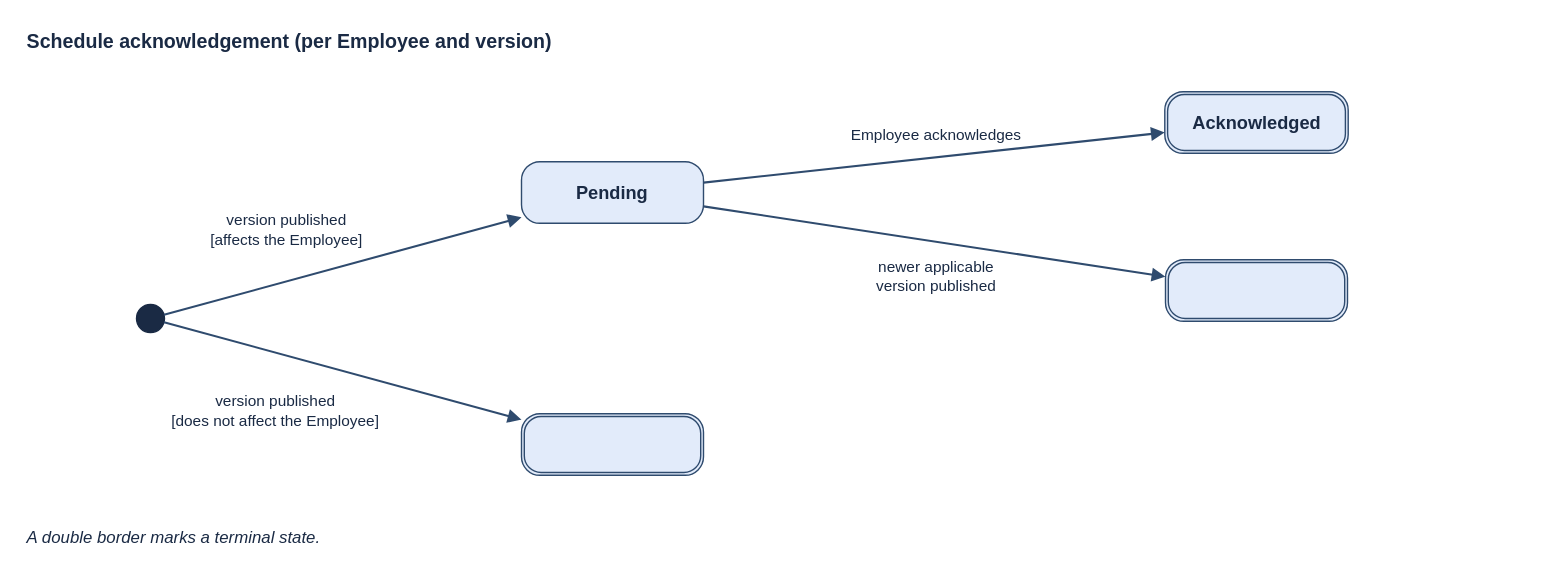
The diagram is 1560 pixels wide and 577 high, and some of its shapes have lost their labels. Here are the shapes that lost their labels. From the top down, the centre of each, then its label:
At point (1256, 289): "Superseded".
At point (612, 443): "Not Required".
